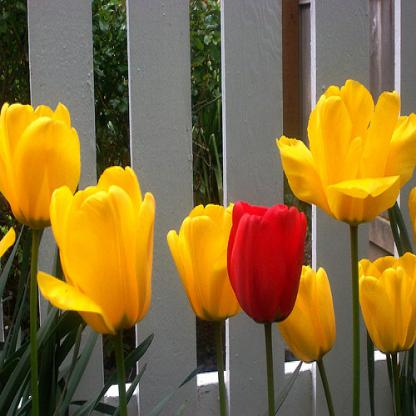TULIP: (180, 60, 410, 381), (8, 66, 165, 342)
